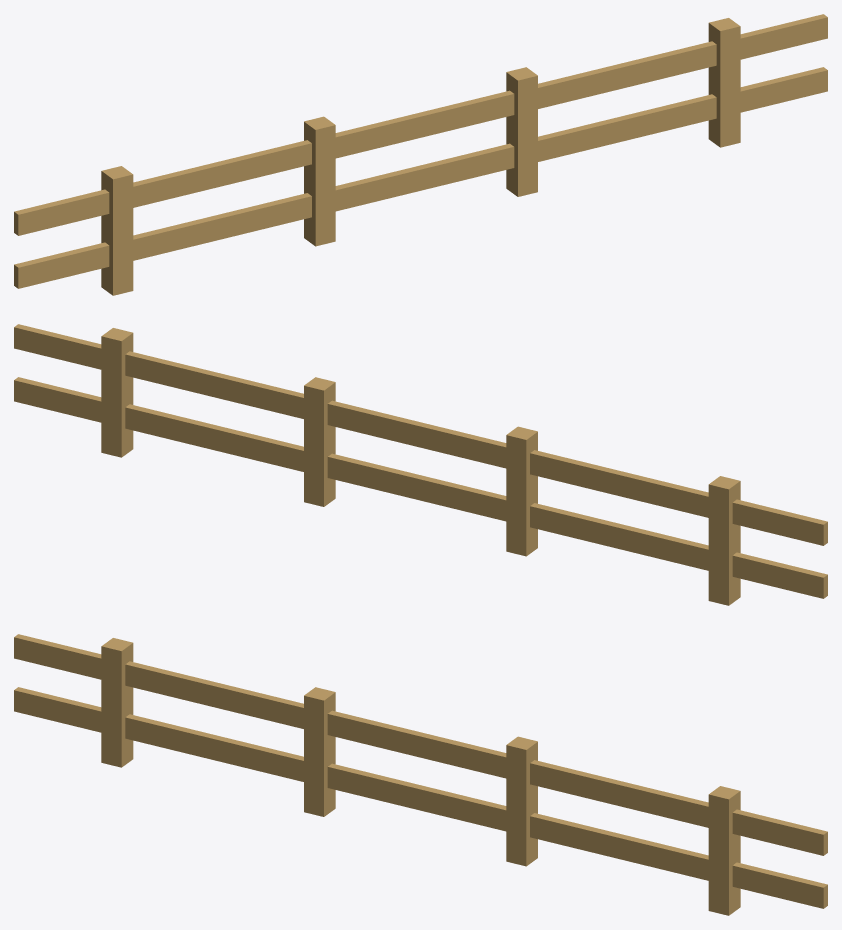
File: fence-mid-piece-x4_.glb
The picture shows the model from 3 angles, top to bottom: view 1: azimuth 30°, elevation 25°; view 2: azimuth 150°, elevation 25°; view 3: azimuth 330°, elevation 25°; orthographic projection.
Visible parts, largest first — view 1: fence-mid-piece-x4; view 2: fence-mid-piece-x4; view 3: fence-mid-piece-x4.
Boxes of the visible parts, <box> form: fence-mid-piece-x4: <box>14,14,827,295</box>; fence-mid-piece-x4: <box>14,324,827,605</box>; fence-mid-piece-x4: <box>14,634,827,915</box>.
Size of the model in its own units: 8 by 1.1 by 0.2.
